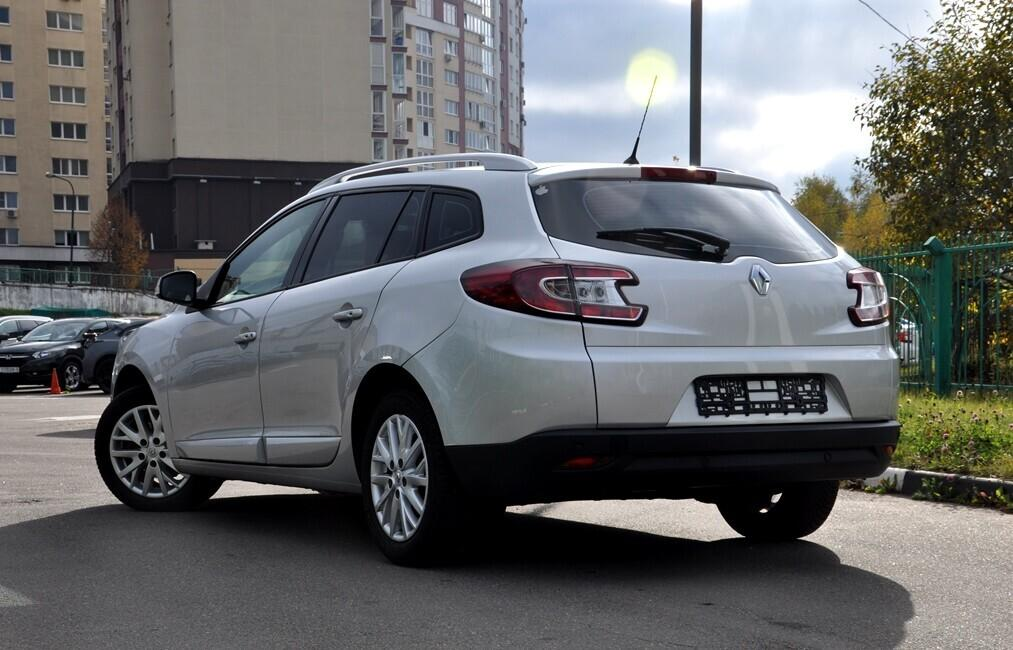Megane_2014-2016: (92, 155, 914, 538)
